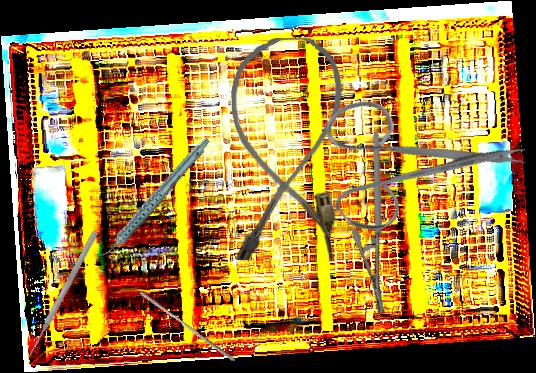Cannula: (228, 37, 343, 262)
Handpiece: (76, 136, 230, 261)
Iris Scissors: (288, 34, 533, 279)
Needle Holder: (321, 131, 437, 316)
Pusher: (24, 229, 100, 360), (136, 289, 239, 363)
